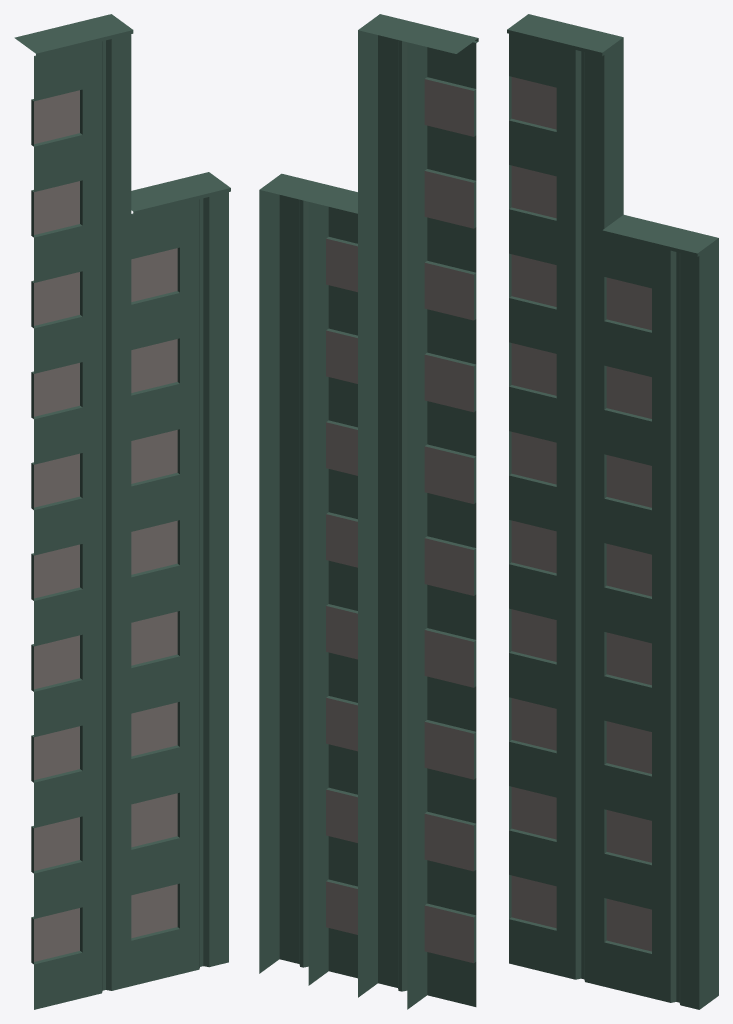
3 renders of one model, left to right at view 1: azimuth 30°, elevation 25°; view 2: azimuth 150°, elevation 25°; view 3: azimuth 330°, elevation 25°, orthographic. The views are drawn at different scales.
Parts seen in each view (by area): view 1: Column.032; view 2: Column.032; view 3: Column.032.
Boxes of the visible parts, x1,y1,x2,y2 form: Column.032: (14,14,230,1009); Column.032: (259,14,478,1009); Column.032: (507,14,718,1009).
Bounding box in the file's own units: 1114 × 5230 × 217.
